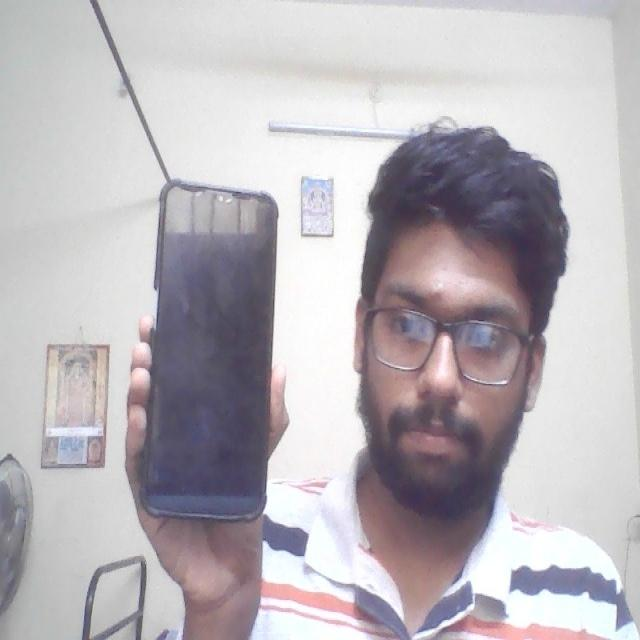Mobile: (139, 174, 282, 527)
